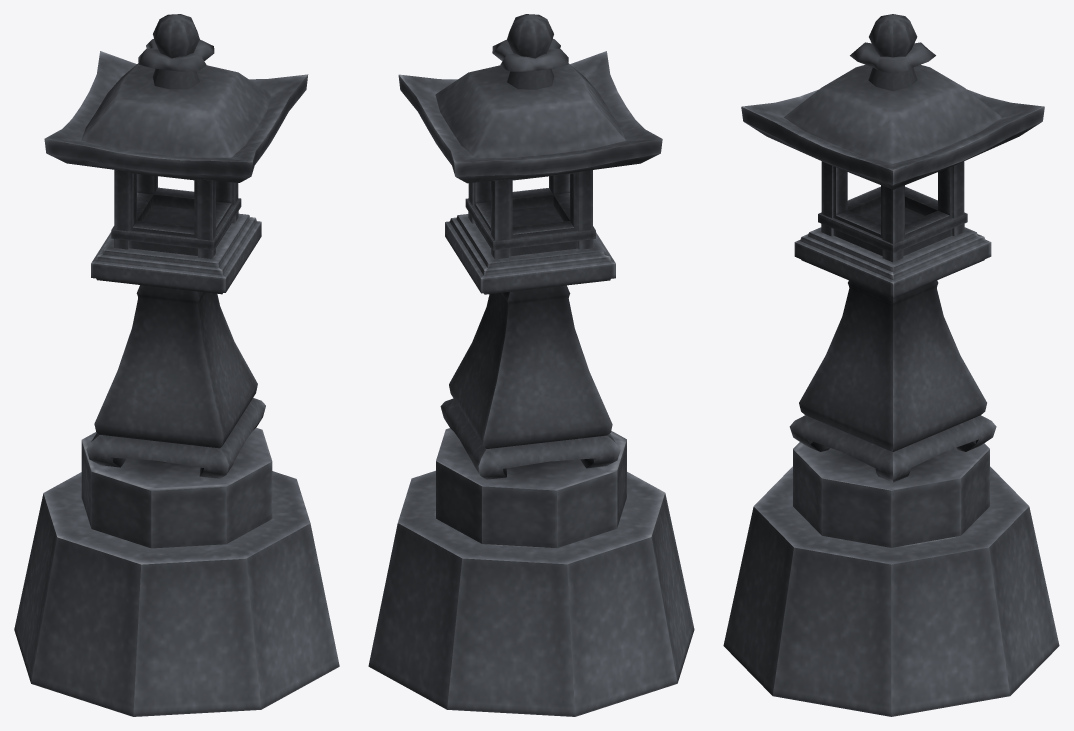
The model's file is Lantern.FBX.
3 views of the same model, side by side, from view 1: azimuth 30°, elevation 25°; view 2: azimuth 150°, elevation 25°; view 3: azimuth 270°, elevation 25° (orthographic).
Visible parts, largest first — view 1: lantern; view 2: lantern; view 3: lantern.
Part boxes in pixels (<box>): lantern: <box>14,14,339,716</box>; lantern: <box>368,14,694,716</box>; lantern: <box>723,14,1059,716</box>.
Size of the model in its own units: 29.8 by 61.75 by 29.8.
